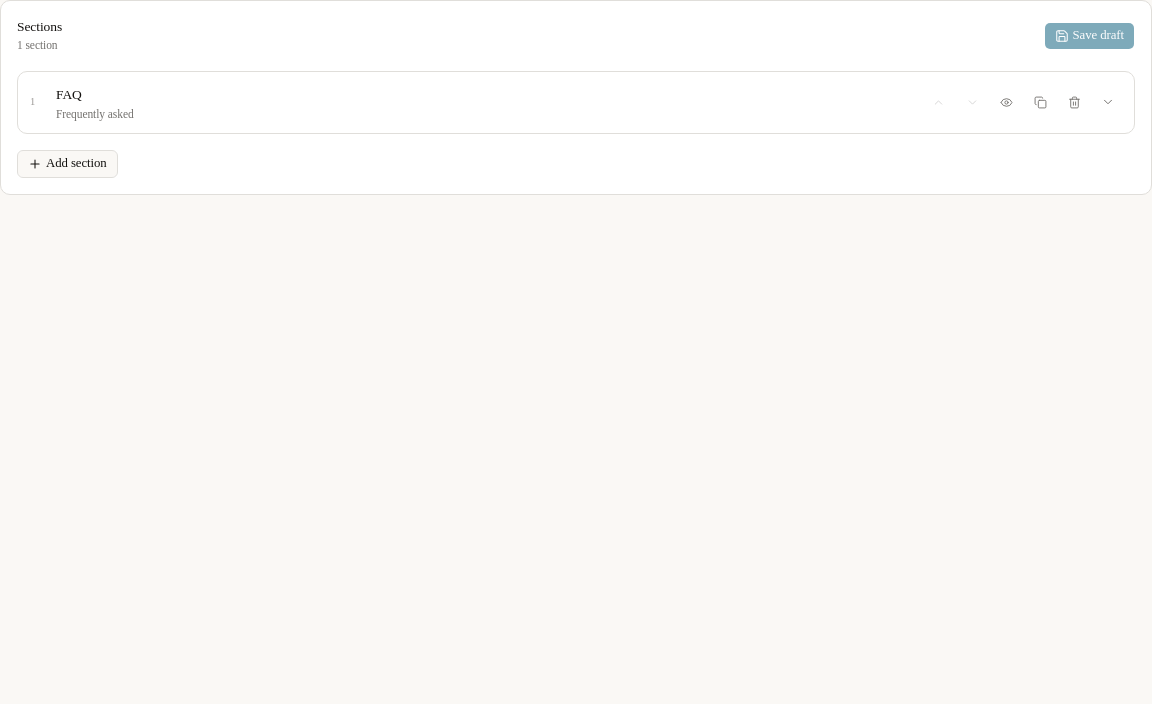
Test case: BlockEditor › expands a block to reveal its fields
The width and height of the screenshot is (1152, 704).
Expected: the text "Questions" is not shown
Click the button named "Expand".
click(1108, 102)  # box [1094,88,1122,116]
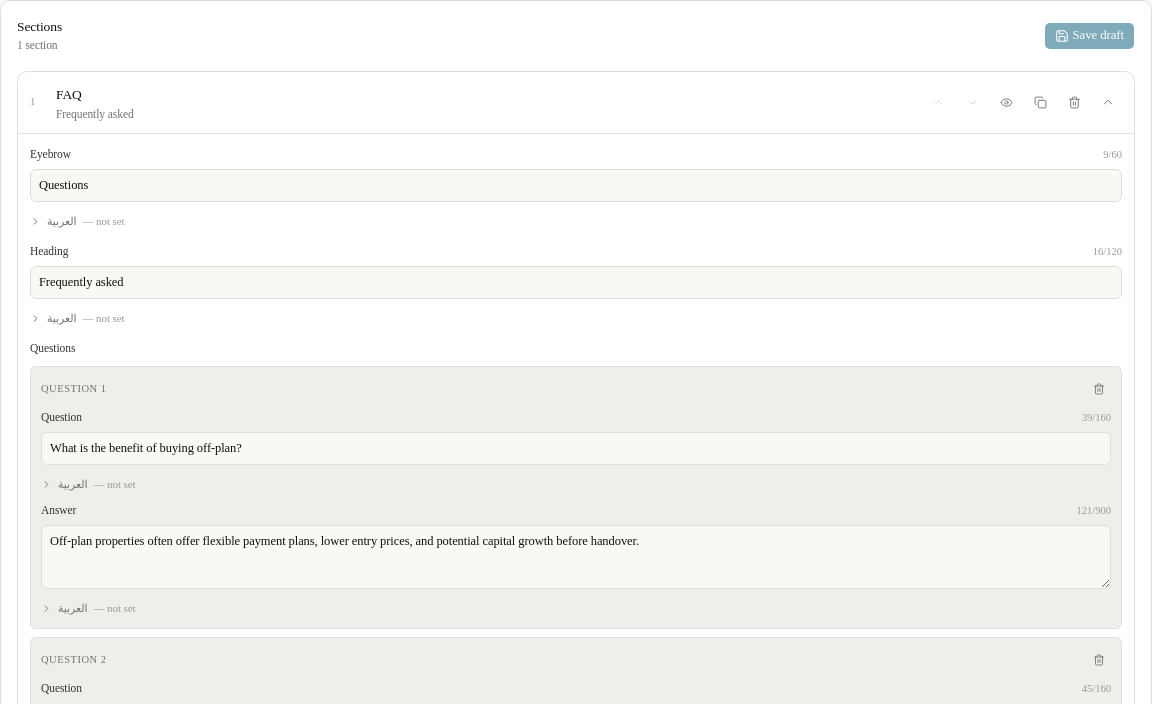
Now the text "Questions" is shown, box [30,340,75,358]
